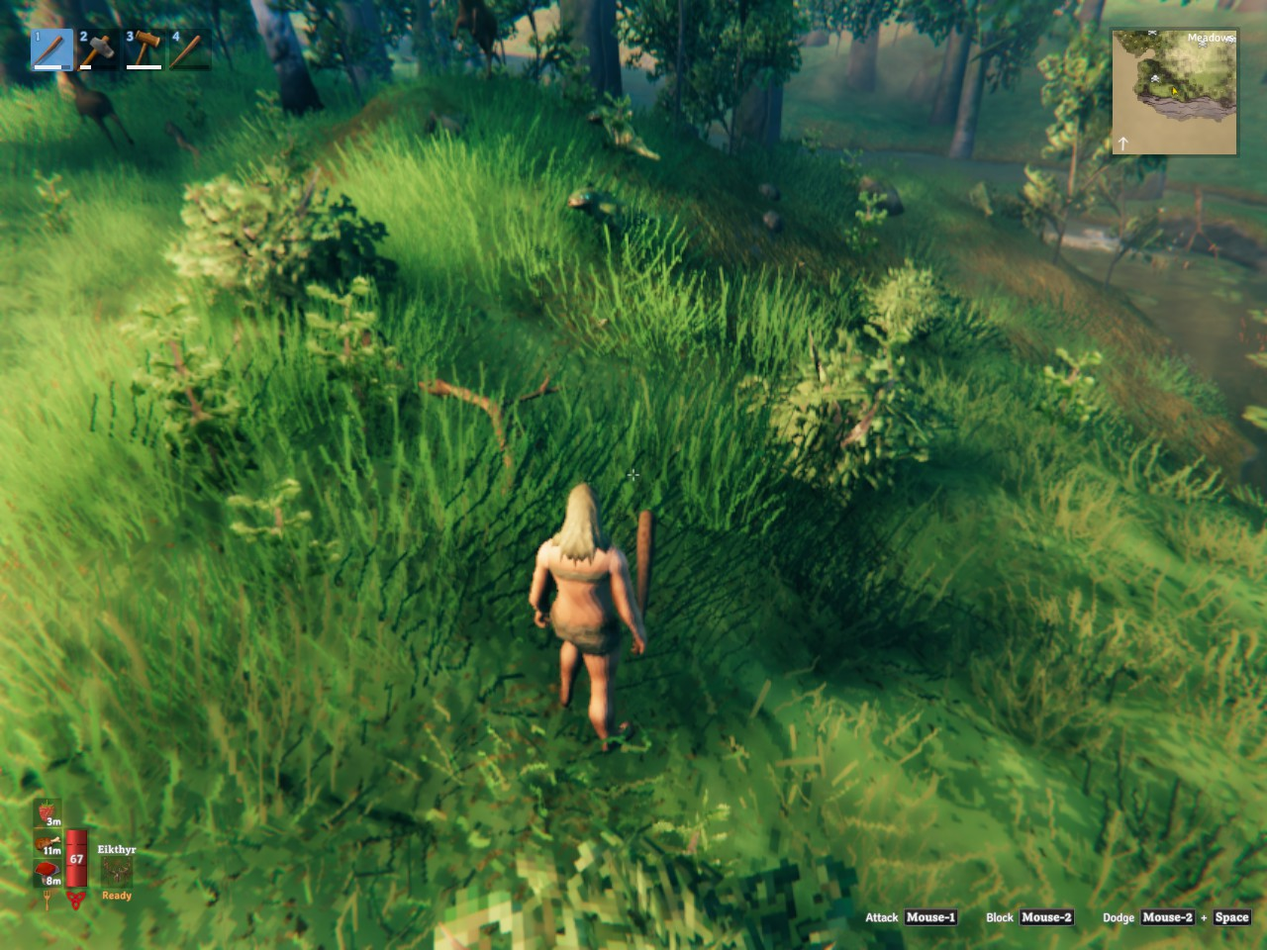Branch: (418, 373, 558, 485)
Club: (636, 510, 653, 613)
Deer: (59, 72, 134, 150)
Food Indicator: (36, 797, 63, 891)
Health Bar: (63, 820, 90, 891)
Hotbar: (25, 21, 398, 78)
Neck: (587, 93, 658, 160), (568, 187, 633, 236), (969, 181, 992, 216)
Stone: (763, 210, 783, 233), (758, 183, 780, 200)
